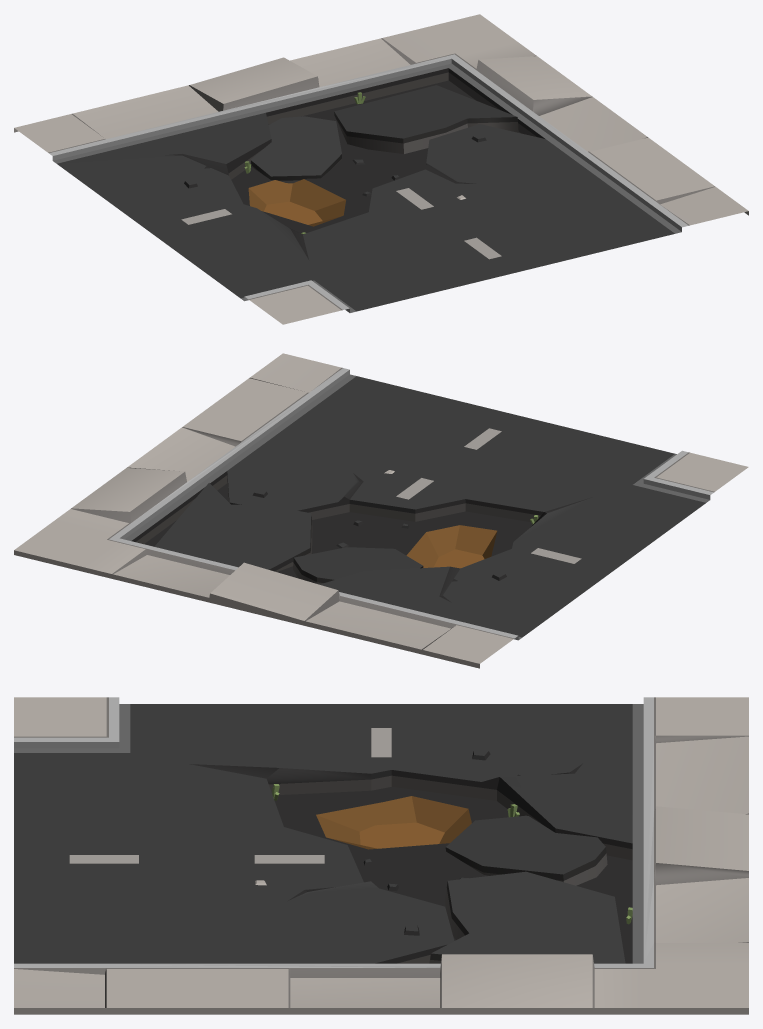
Rendered from SA_Env_Road_CornerLines_Damaged_01.fbx.
The picture shows the model from 3 angles, top to bottom: view 1: azimuth 30°, elevation 25°; view 2: azimuth 150°, elevation 25°; view 3: azimuth 270°, elevation 25°; orthographic projection. The views are drawn at different scales.
Visible parts, largest first — view 1: SA_Env_Road_CornerLines_Damaged_01; view 2: SA_Env_Road_CornerLines_Damaged_01; view 3: SA_Env_Road_CornerLines_Damaged_01.
Boxes of the visible parts, box(x1,y1,x2,y2) form: SA_Env_Road_CornerLines_Damaged_01: box(14, 14, 748, 324); SA_Env_Road_CornerLines_Damaged_01: box(14, 353, 748, 668); SA_Env_Road_CornerLines_Damaged_01: box(14, 697, 748, 1014).
Bounding box in the file's own units: 20 × 1.73 × 20.
Materials: 1 (1 with a texture image).
